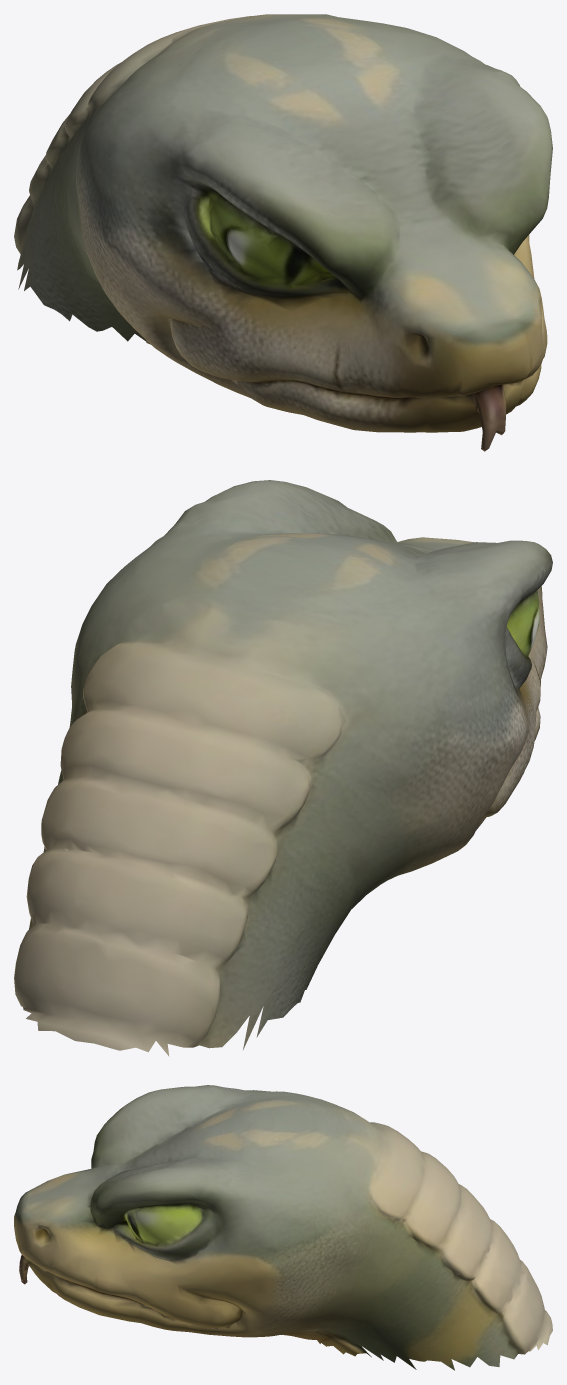
Rendered from ular_melar_head.glb.
3 renders of one model, top to bottom at view 1: azimuth 30°, elevation 25°; view 2: azimuth 150°, elevation 25°; view 3: azimuth 270°, elevation 25°, orthographic. The views are drawn at different scales.
Visible parts, largest first — view 1: tripo_node_fd1cbbf4-af72-4767-ad30-711315003b75; view 2: tripo_node_fd1cbbf4-af72-4767-ad30-711315003b75; view 3: tripo_node_fd1cbbf4-af72-4767-ad30-711315003b75.
Part boxes in pixels (x1=…): tripo_node_fd1cbbf4-af72-4767-ad30-711315003b75: x1=14, y1=14, x2=552, y2=451; tripo_node_fd1cbbf4-af72-4767-ad30-711315003b75: x1=14, y1=480, x2=552, y2=1056; tripo_node_fd1cbbf4-af72-4767-ad30-711315003b75: x1=14, y1=1085, x2=552, y2=1370.
Size of the model in its own units: 0.2346 by 0.1888 by 0.4207.
Materials: 1 (1 with a texture image).
